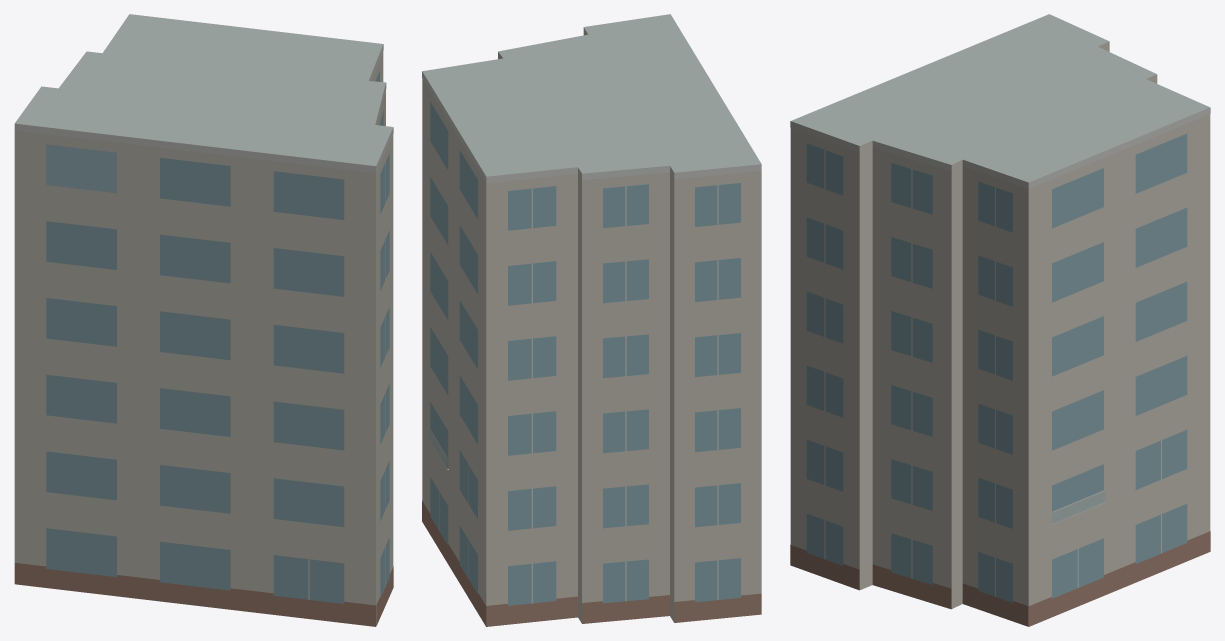
File: survey-upis-33029957.glb
3 renders of one model, left to right at view 1: azimuth 30°, elevation 25°; view 2: azimuth 150°, elevation 25°; view 3: azimuth 270°, elevation 25°, orthographic. The views are drawn at different scales.
Parts seen in each view (by area): view 1: survey-upis-33029957.tmp; view 2: survey-upis-33029957.tmp; view 3: survey-upis-33029957.tmp.
Boxes of the visible parts, x1=… form: survey-upis-33029957.tmp: x1=14, y1=14, x2=393, y2=626; survey-upis-33029957.tmp: x1=422, y1=14, x2=761, y2=626; survey-upis-33029957.tmp: x1=790, y1=14, x2=1210, y2=626.
Bounding box in the file's own units: 13.59 × 16.7 × 14.31.
